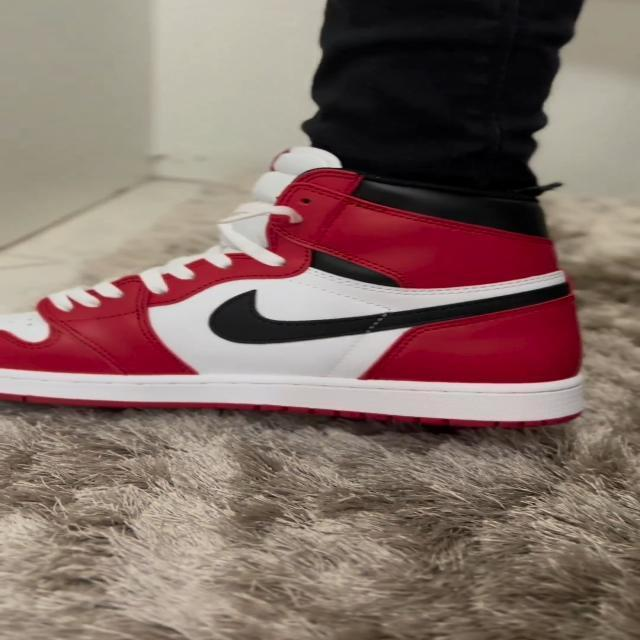nike original jordan 1: (0, 166, 580, 430)
